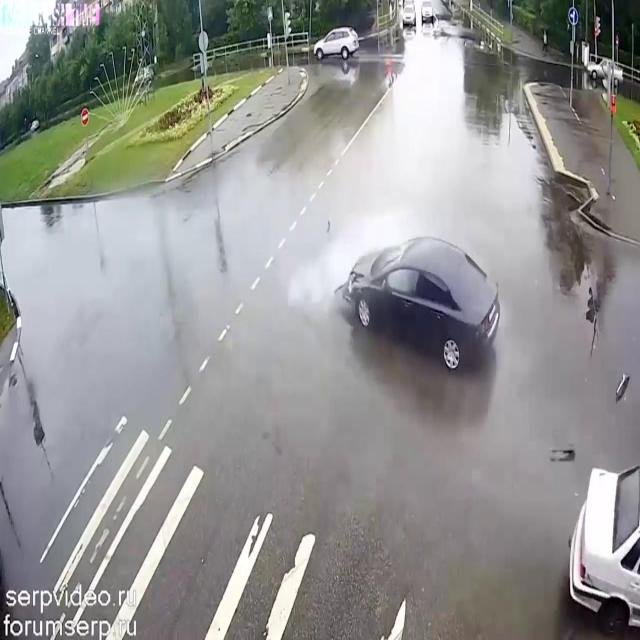accident: (296, 192, 516, 392)
